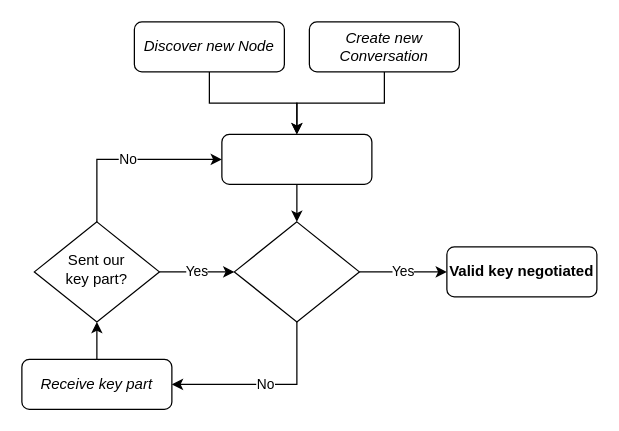
Some shapes in this 619 by 431 pixel diagram are drawn without their labels. Each missing label, with the centre of its shape:
Is key complete?: (296,271)
Send our key part: (296,158)
